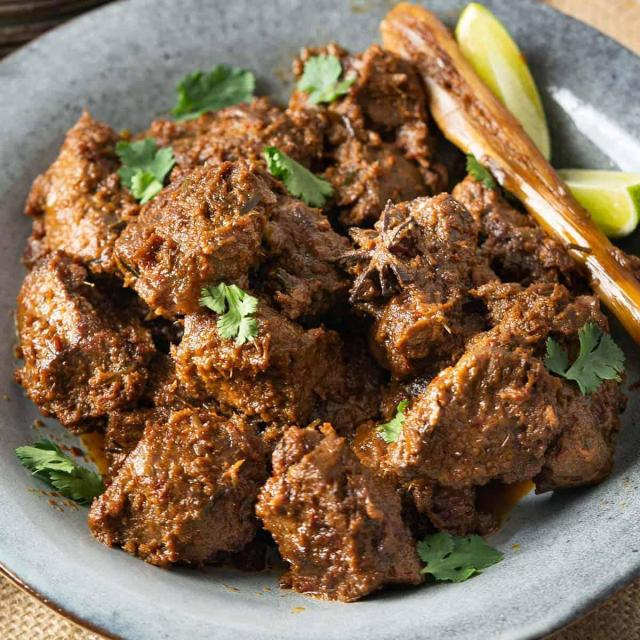Rendang: (1, 23, 640, 631)
